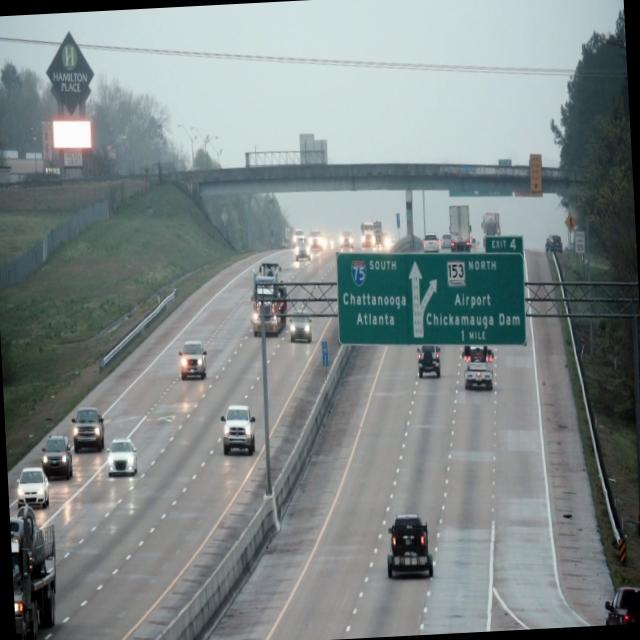Vehicle: (387, 517, 436, 581), (251, 262, 287, 340), (219, 404, 258, 461), (462, 346, 498, 394), (44, 430, 74, 485), (17, 466, 51, 510), (72, 405, 105, 449), (107, 436, 138, 478), (180, 338, 208, 381), (288, 308, 312, 348)
